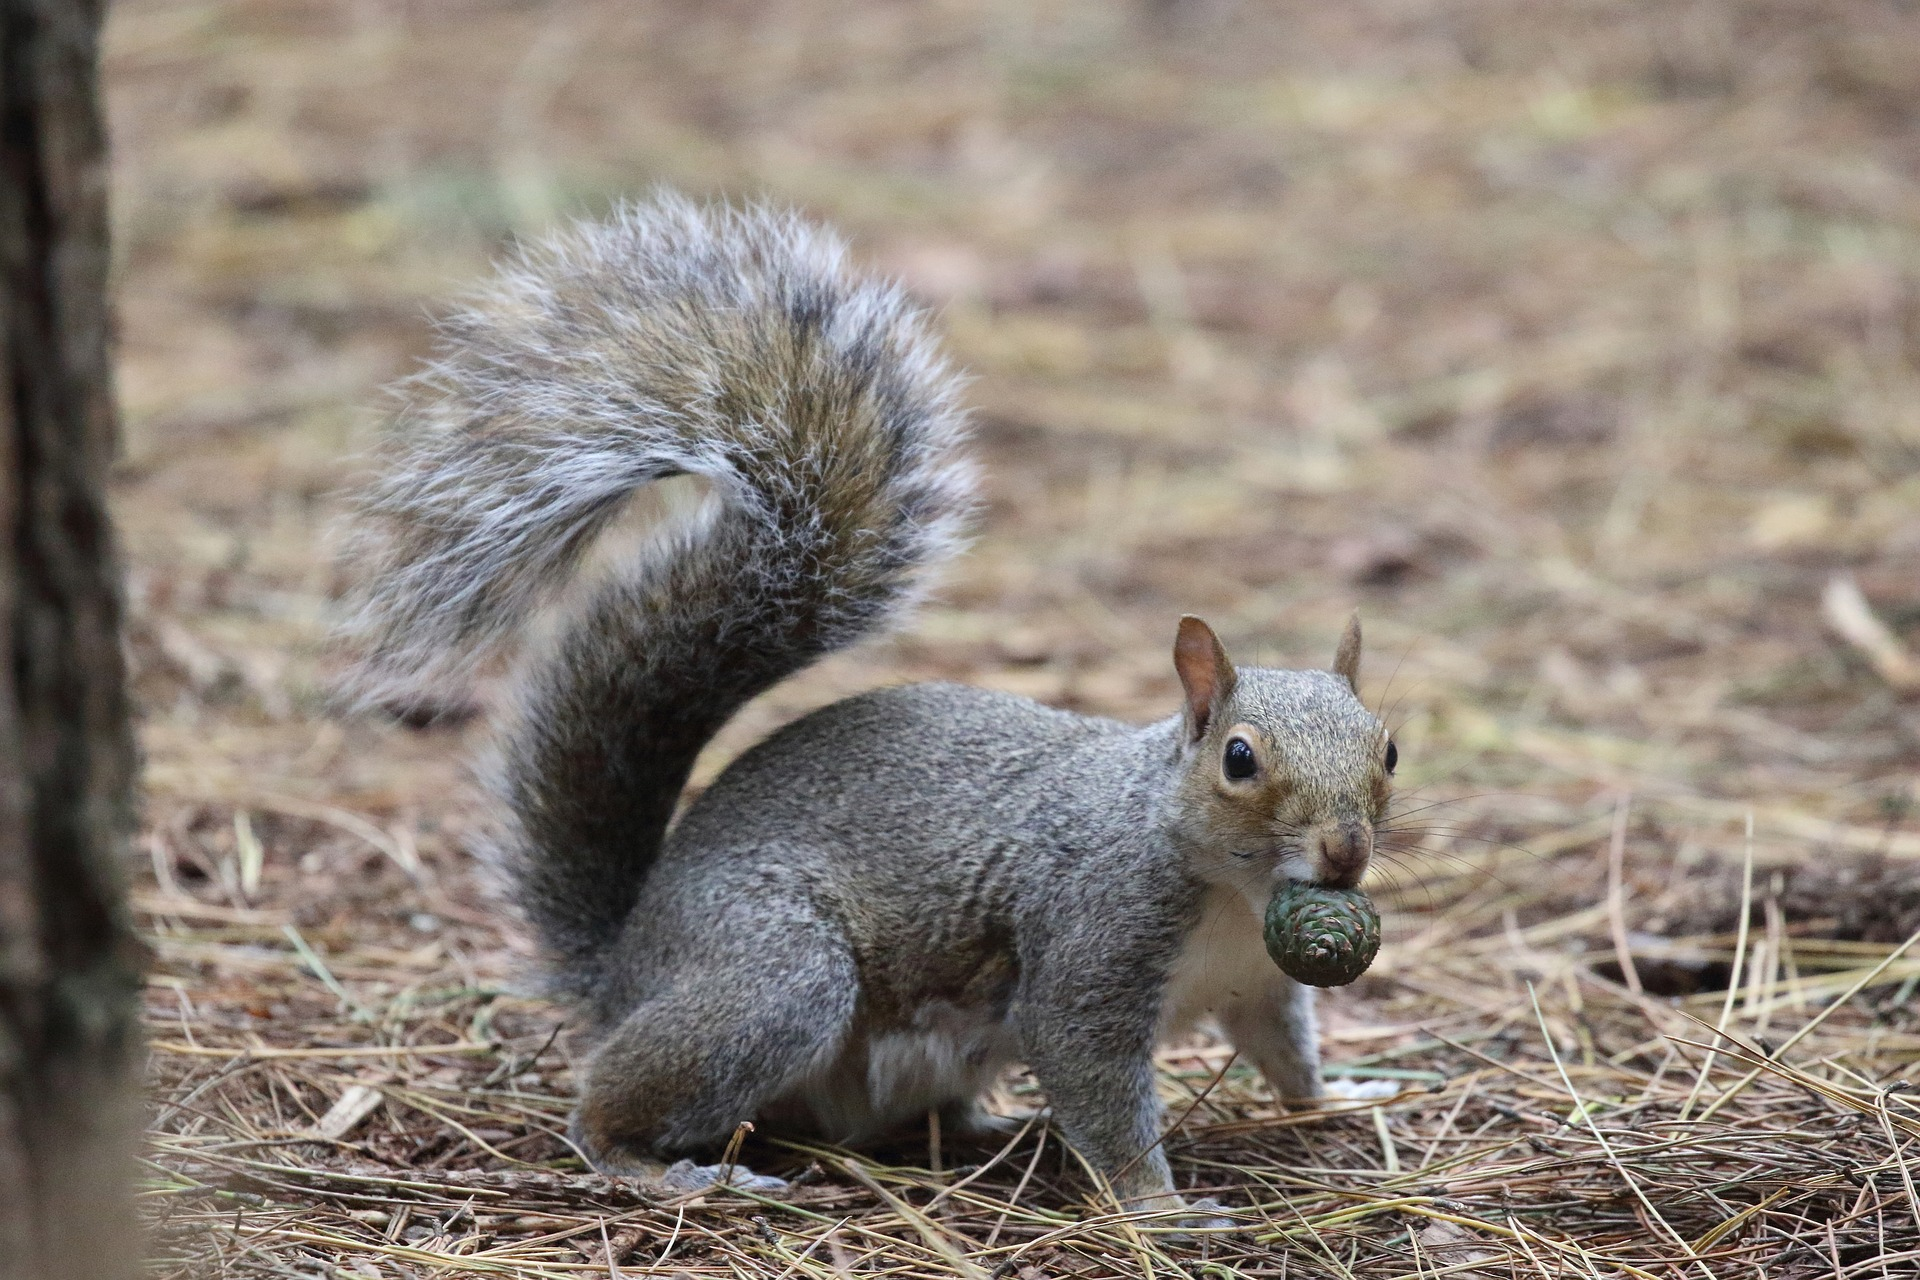squirrel: (376, 194, 1404, 1231)
